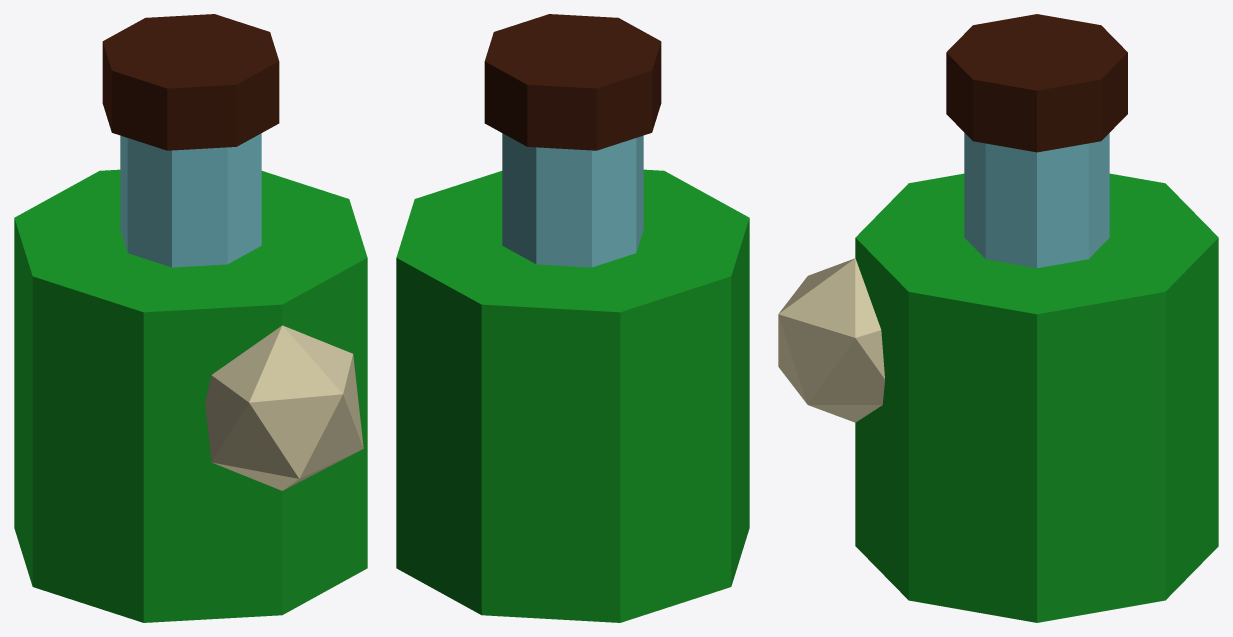
File: poison_skull_bottle.obj
3 views of the same model, side by side, from view 1: azimuth 30°, elevation 25°; view 2: azimuth 150°, elevation 25°; view 3: azimuth 270°, elevation 25° (orthographic).
Visible parts, largest first — view 1: poison_skull_bottle; view 2: poison_skull_bottle; view 3: poison_skull_bottle.
Boxes of the visible parts, bbox=[...] form: poison_skull_bottle: bbox=[14, 14, 367, 622]; poison_skull_bottle: bbox=[396, 14, 749, 622]; poison_skull_bottle: bbox=[778, 14, 1218, 622].
Bounding box in the file's own units: 0.32 × 0.48 × 0.3881.
